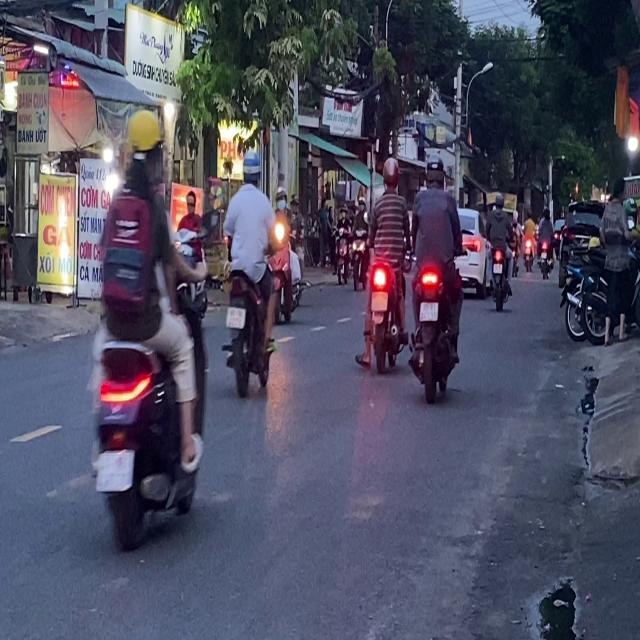helmet: (122, 108, 163, 181), (241, 148, 261, 186), (424, 151, 444, 186), (381, 156, 399, 189)
licenseplate: (87, 104, 209, 555), (220, 148, 278, 396), (408, 150, 464, 399), (358, 154, 410, 372)
nohelmet: (96, 450, 133, 490), (226, 306, 245, 327), (420, 301, 438, 321), (371, 291, 388, 310)
